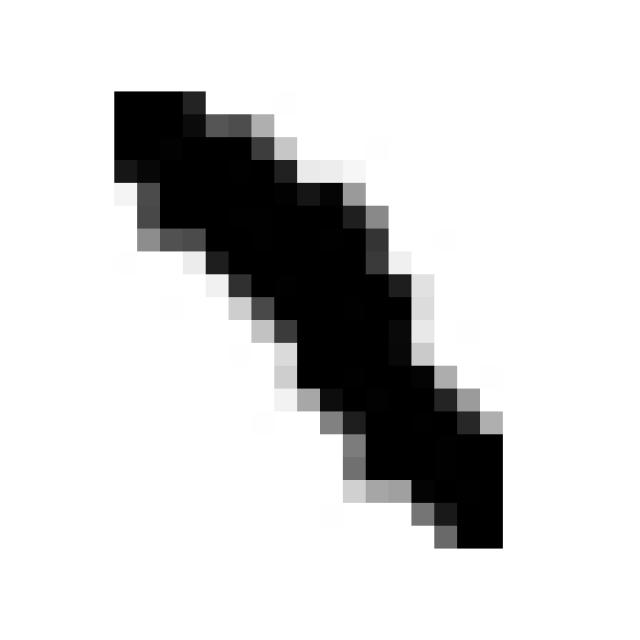0 -zero-: (87, 73, 519, 562)
